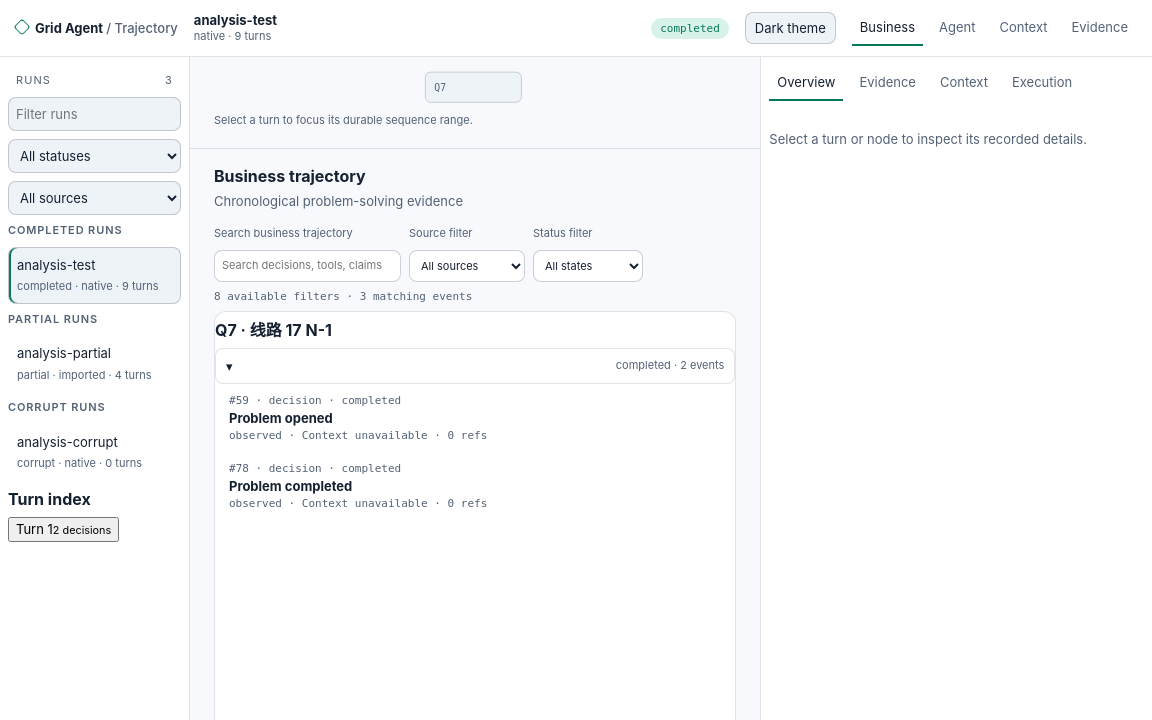
App shell › selecting Q7 synchronizes timeline, content, and inspector
The image size is (1152, 720).
Click the button named "Q7 · 线路 17 N-1 overview segment" at (475, 89), box [222,73,728,105]
(page scrolled)
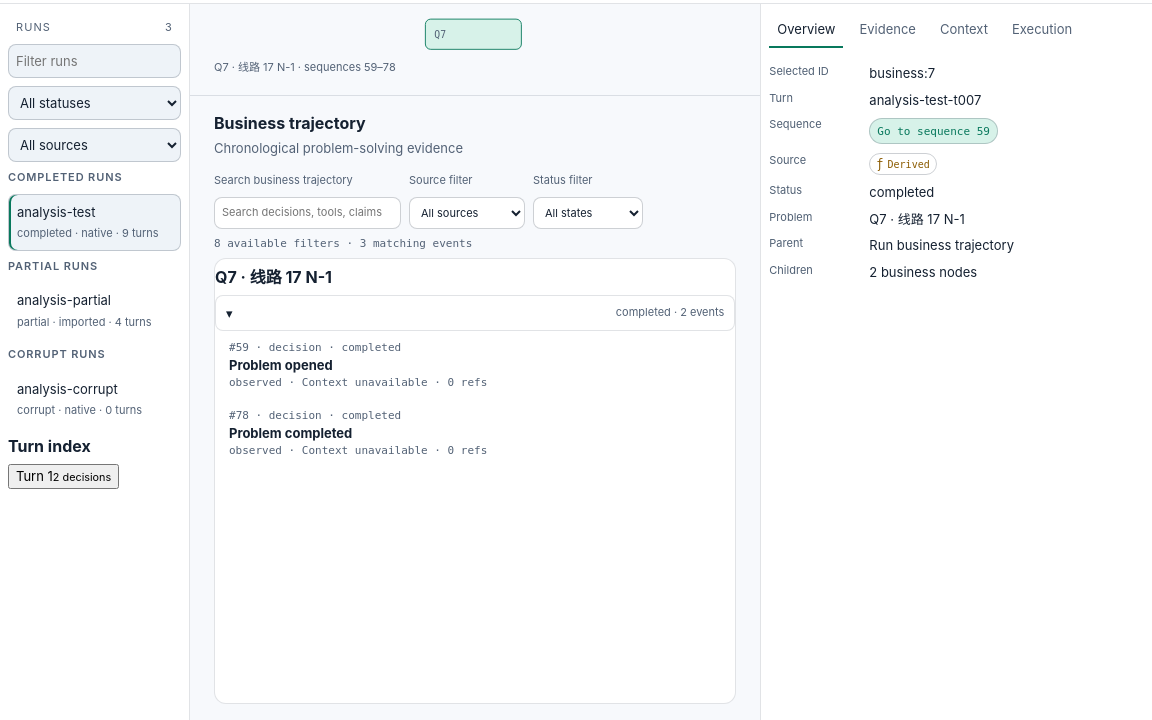
Expected: the element that starts with "Business trajectory" shows "Q7 · 线路 17 N-1", [215,267,332,287]
Result: the element named "Trajectory inspector" shows "analysis-test-t007" at [869,92,981,108]
